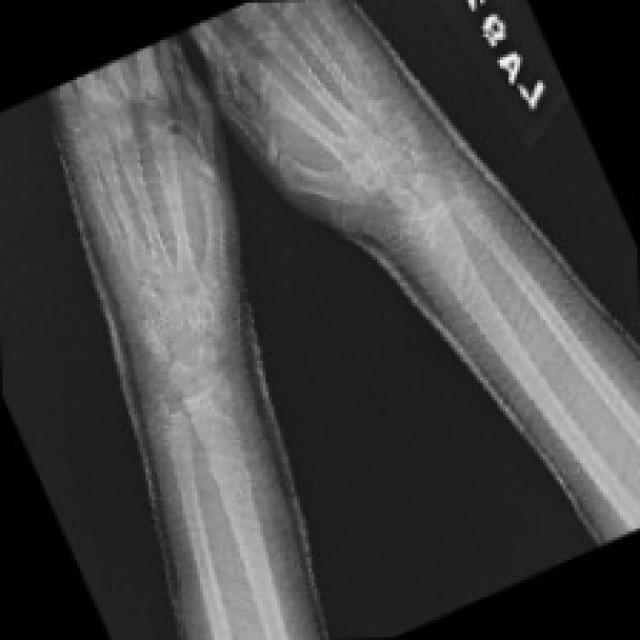fracture: (441, 256, 507, 341)
